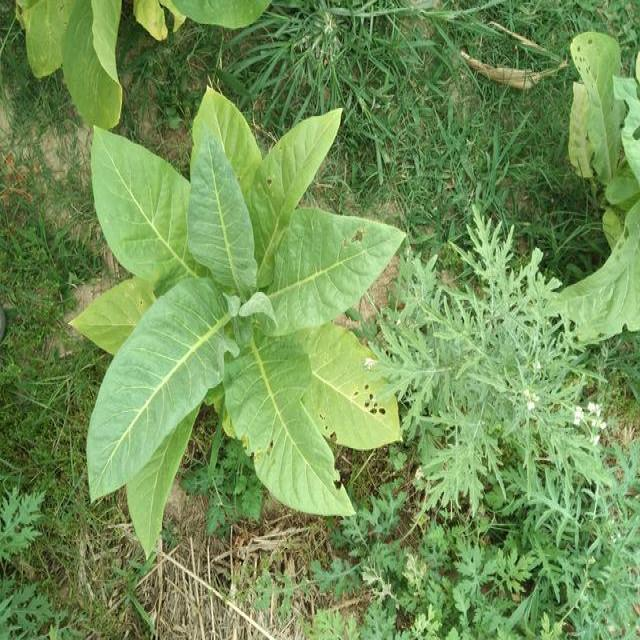crop: (65, 92, 401, 550)
